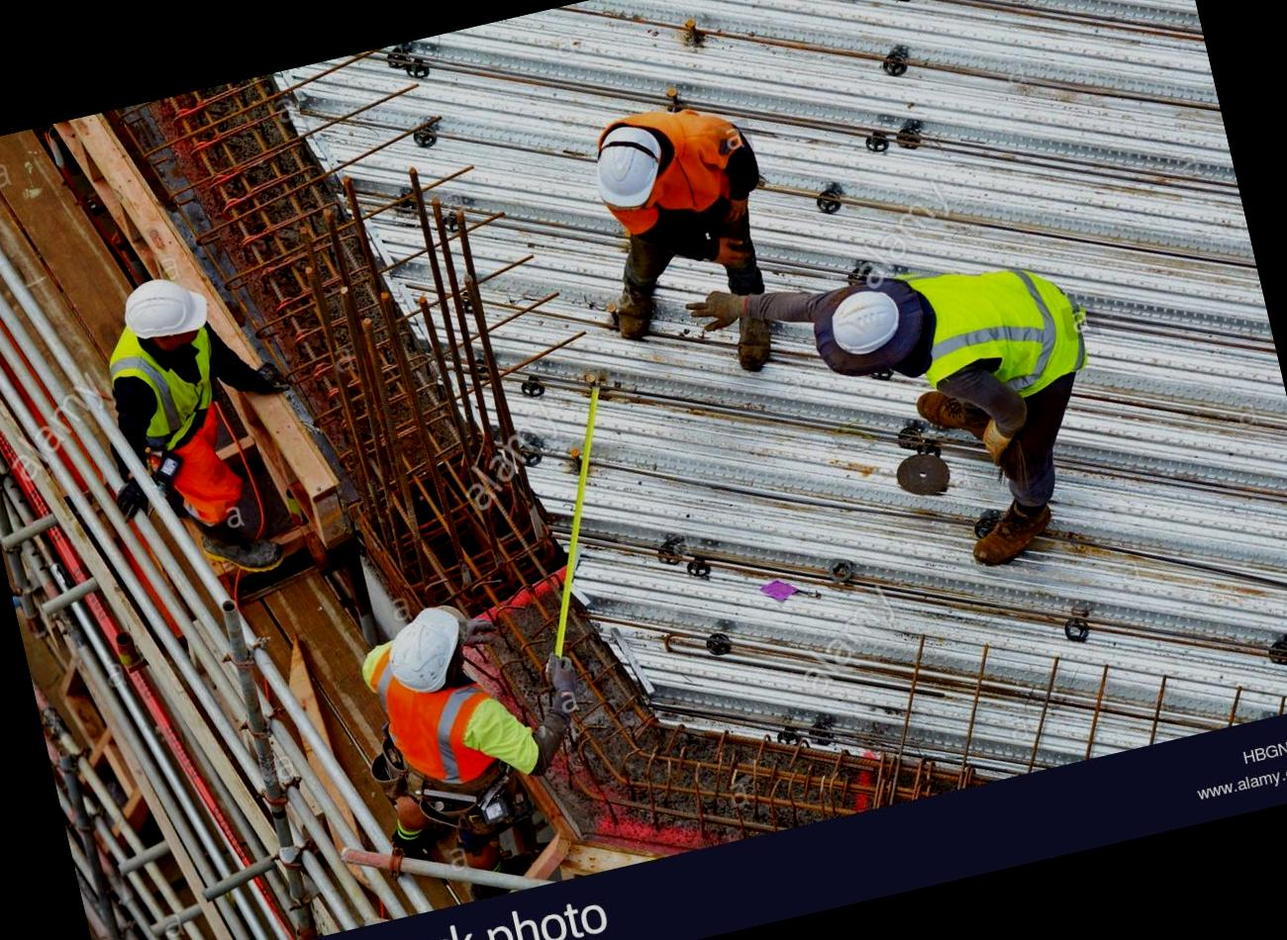helmet: (364, 596, 491, 715), (115, 266, 221, 368), (813, 282, 920, 374), (586, 121, 684, 218)
person: (795, 227, 1139, 594), (75, 247, 329, 603), (556, 74, 806, 410), (333, 583, 575, 900)
